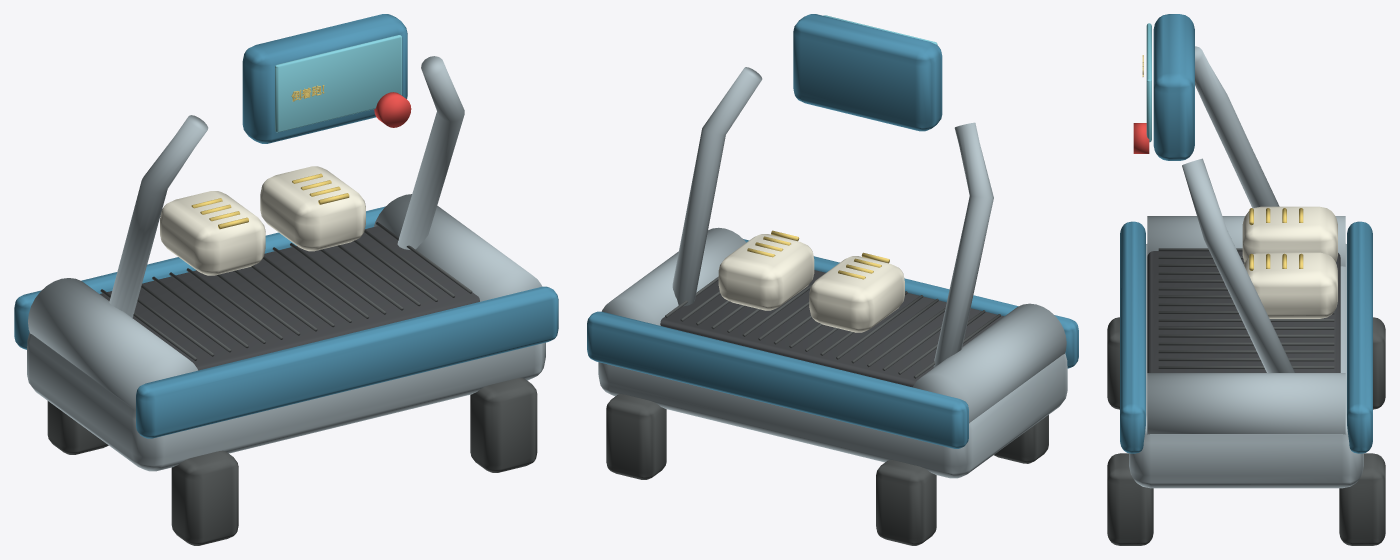
File: P06_Backwards_Run_Gym_Treadmill.glb
The picture shows the model from 3 angles, left to right: view 1: azimuth 30°, elevation 25°; view 2: azimuth 150°, elevation 25°; view 3: azimuth 270°, elevation 25°; orthographic projection. The views are drawn at different scales.
Visible parts, largest first — view 1: P06_FRAME_STATIC | Professional sports club deep blue sidewa, P06 fully physical black flexible tread running surface, P06 commercial real metal treadmill chassis, P06_ROLLER_ACTOR | Treadmill industrial brushed aluminum wel, P06_FRAME_STATIC | Durable black leg rubber protective tips, P06_SHOES_ACTOR | Running sneakers actual sole ivory, P06_HANDLE_STATIC | Treadmill industrial brushed aluminum we, P06 treadmill blue clear electronic speed readout, P06 treadmill genuine sports terminal computer screen, P06_BELT_ACTOR | Durable black leg rubber protective tips, P06_SHOES_ACTOR | Reverse treadmill silly indicator mustard , P06 large physical red emergency stop button; view 2: P06_FRAME_STATIC | Professional sports club deep blue sidewa, P06 commercial real metal treadmill chassis, P06 treadmill genuine sports terminal computer screen, P06_ROLLER_ACTOR | Treadmill industrial brushed aluminum wel, P06 fully physical black flexible tread running surface, P06_HANDLE_STATIC | Treadmill industrial brushed aluminum we, P06_SHOES_ACTOR | Running sneakers actual sole ivory, P06_FRAME_STATIC | Durable black leg rubber protective tips, P06_BELT_ACTOR | Durable black leg rubber protective tips, P06_SHOES_ACTOR | Reverse treadmill silly indicator mustard ; view 3: P06_ROLLER_ACTOR | Treadmill industrial brushed aluminum wel, P06 commercial real metal treadmill chassis, P06_FRAME_STATIC | Professional sports club deep blue sidewa, P06 fully physical black flexible tread running surface, P06_HANDLE_STATIC | Treadmill industrial brushed aluminum we, P06_SHOES_ACTOR | Running sneakers actual sole ivory, P06_FRAME_STATIC | Durable black leg rubber protective tips, P06_BELT_ACTOR | Durable black leg rubber protective tips, P06 treadmill genuine sports terminal computer screen, P06 treadmill blue clear electronic speed readout, P06_SHOES_ACTOR | Reverse treadmill silly indicator mustard , P06 large physical red emergency stop button.
Boxes of the visible parts, bbox=[...] form: P06_FRAME_STATIC | Professional sports club deep blue sidewa: bbox=[14, 206, 558, 438]; P06 fully physical black flexible tread running surface: bbox=[100, 226, 479, 370]; P06 commercial real metal treadmill chassis: bbox=[27, 332, 545, 471]; P06_ROLLER_ACTOR | Treadmill industrial brushed aluminum wel: bbox=[28, 194, 542, 410]; P06_FRAME_STATIC | Durable black leg rubber protective tips: bbox=[47, 378, 537, 545]; P06_SHOES_ACTOR | Running sneakers actual sole ivory: bbox=[160, 166, 365, 275]; P06_HANDLE_STATIC | Treadmill industrial brushed aluminum we: bbox=[109, 56, 464, 317]; P06 treadmill blue clear electronic speed readout: bbox=[275, 35, 402, 132]; P06 treadmill genuine sports terminal computer screen: bbox=[242, 14, 407, 143]; P06_BELT_ACTOR | Durable black leg rubber protective tips: bbox=[100, 222, 472, 360]; P06_SHOES_ACTOR | Reverse treadmill silly indicator mustard : bbox=[191, 173, 349, 229]; P06 large physical red emergency stop button: bbox=[374, 92, 411, 127]; P06_FRAME_STATIC | Professional sports club deep blue sidewa: bbox=[587, 239, 1078, 448]; P06 commercial real metal treadmill chassis: bbox=[598, 353, 1067, 478]; P06 treadmill genuine sports terminal computer screen: bbox=[793, 14, 942, 131]; P06_ROLLER_ACTOR | Treadmill industrial brushed aluminum wel: bbox=[602, 227, 1066, 423]; P06 fully physical black flexible tread running surface: bbox=[660, 270, 1003, 387]; P06_HANDLE_STATIC | Treadmill industrial brushed aluminum we: bbox=[672, 67, 993, 367]; P06_SHOES_ACTOR | Running sneakers actual sole ivory: bbox=[718, 234, 904, 332]; P06_FRAME_STATIC | Durable black leg rubber protective tips: bbox=[606, 394, 1048, 545]; P06_BELT_ACTOR | Durable black leg rubber protective tips: bbox=[665, 276, 1000, 378]; P06_SHOES_ACTOR | Reverse treadmill silly indicator mustard : bbox=[747, 230, 889, 279]; P06_ROLLER_ACTOR | Treadmill industrial brushed aluminum wel: bbox=[1147, 216, 1345, 434]; P06 commercial real metal treadmill chassis: bbox=[1129, 244, 1363, 488]; P06_FRAME_STATIC | Professional sports club deep blue sidewa: bbox=[1120, 221, 1372, 453]; P06 fully physical black flexible tread running surface: bbox=[1147, 251, 1340, 372]; P06_HANDLE_STATIC | Treadmill industrial brushed aluminum we: bbox=[1182, 46, 1294, 372]; P06_SHOES_ACTOR | Running sneakers actual sole ivory: bbox=[1242, 206, 1337, 318]; P06_FRAME_STATIC | Durable black leg rubber protective tips: bbox=[1107, 317, 1385, 545]; P06_BELT_ACTOR | Durable black leg rubber protective tips: bbox=[1158, 248, 1334, 368]; P06 treadmill genuine sports terminal computer screen: bbox=[1153, 14, 1194, 160]; P06 treadmill blue clear electronic speed readout: bbox=[1146, 23, 1151, 142]; P06_SHOES_ACTOR | Reverse treadmill silly indicator mustard : bbox=[1249, 208, 1303, 270]; P06 large physical red emergency stop button: bbox=[1133, 123, 1149, 153].
Bounding box in the file's own units: 1.75 × 1.81 × 1.08.
